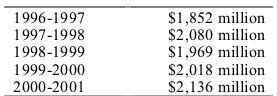column: (161, 2, 274, 96), (4, 1, 110, 96)
row: (4, 4, 272, 27), (3, 44, 273, 63), (3, 27, 273, 45), (4, 63, 275, 79)
